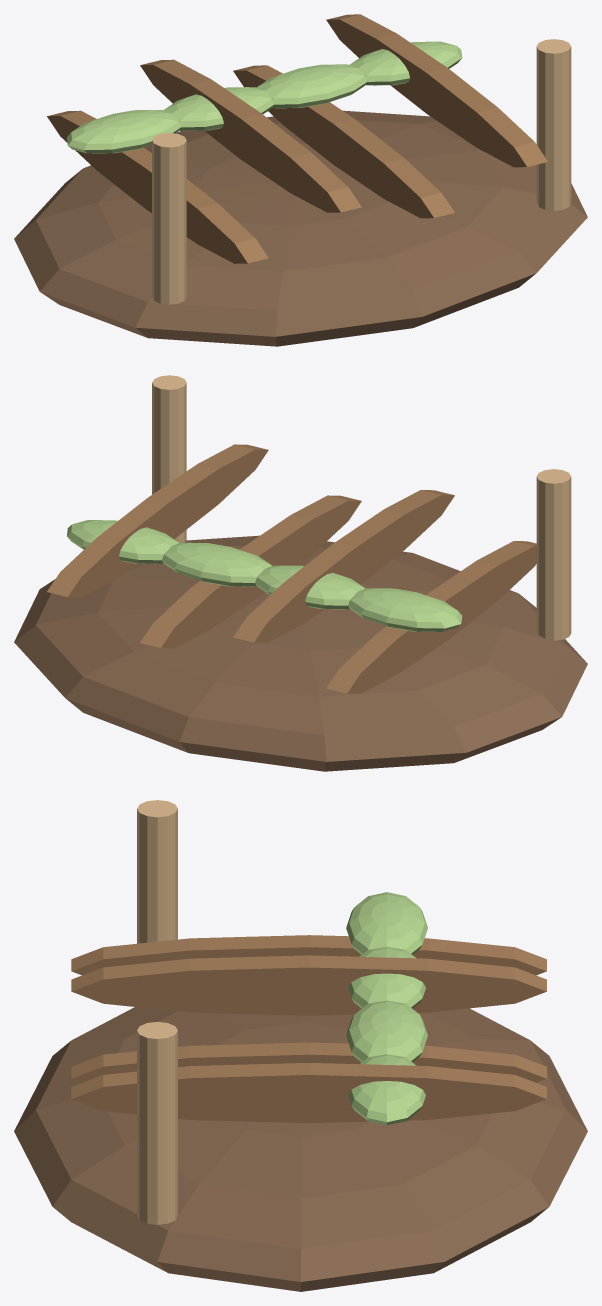
The model's file is TwigYard2.fbx.
The picture shows the model from 3 angles, top to bottom: view 1: azimuth 30°, elevation 25°; view 2: azimuth 150°, elevation 25°; view 3: azimuth 270°, elevation 25°; orthographic projection. The views are drawn at different scales.
Visible parts, largest first — view 1: Worksite soil bed.003, Stacked twig.006, Stacked twig.004, Stacked twig.005, Stacked twig.003, Yard fence.003, Yard fence.002, Twig leaf.003, Twig leaf.005, Twig leaf.006, Twig leaf.004; view 2: Worksite soil bed.003, Stacked twig.006, Stacked twig.004, Stacked twig.003, Stacked twig.005, Yard fence.002, Yard fence.003, Twig leaf.003, Twig leaf.005, Twig leaf.006, Twig leaf.004; view 3: Worksite soil bed.003, Stacked twig.004, Stacked twig.006, Stacked twig.003, Yard fence.003, Stacked twig.005, Yard fence.002, Twig leaf.003, Twig leaf.005, Twig leaf.006, Twig leaf.004.
Part boxes in pixels (<box>): Worksite soil bed.003: <box>14,110,587,346</box>; Stacked twig.006: <box>326,14,547,167</box>; Stacked twig.004: <box>140,59,361,212</box>; Stacked twig.005: <box>233,65,454,218</box>; Stacked twig.003: <box>47,110,268,263</box>; Yard fence.003: <box>536,39,571,210</box>; Yard fence.002: <box>152,133,186,304</box>; Twig leaf.003: <box>67,110,180,153</box>; Twig leaf.005: <box>257,64,366,108</box>; Twig leaf.006: <box>350,41,462,85</box>; Twig leaf.004: <box>164,87,273,130</box>; Worksite soil bed.003: <box>14,535,587,771</box>; Stacked twig.006: <box>47,444,268,597</box>; Stacked twig.004: <box>233,490,454,642</box>; Stacked twig.003: <box>326,541,536,693</box>; Stacked twig.005: <box>140,495,361,648</box>; Yard fence.002: <box>536,469,571,640</box>; Yard fence.003: <box>152,375,186,542</box>; Twig leaf.003: <box>348,588,462,631</box>; Twig leaf.005: <box>162,542,271,586</box>; Twig leaf.006: <box>67,520,178,563</box>; Twig leaf.004: <box>255,565,364,609</box>; Worksite soil bed.003: <box>14,1007,587,1291</box>; Stacked twig.004: <box>71,955,546,1015</box>; Stacked twig.006: <box>71,1063,546,1123</box>; Stacked twig.003: <box>71,935,546,975</box>; Yard fence.003: <box>137,1022,177,1224</box>; Stacked twig.005: <box>71,1042,546,1082</box>; Yard fence.002: <box>137,800,177,943</box>; Twig leaf.003: <box>346,892,427,954</box>; Twig leaf.005: <box>346,1000,427,1062</box>; Twig leaf.006: <box>348,1054,425,1125</box>; Twig leaf.004: <box>348,947,425,1008</box>.
Size of the model in its own units: 174 by 72 by 140.
